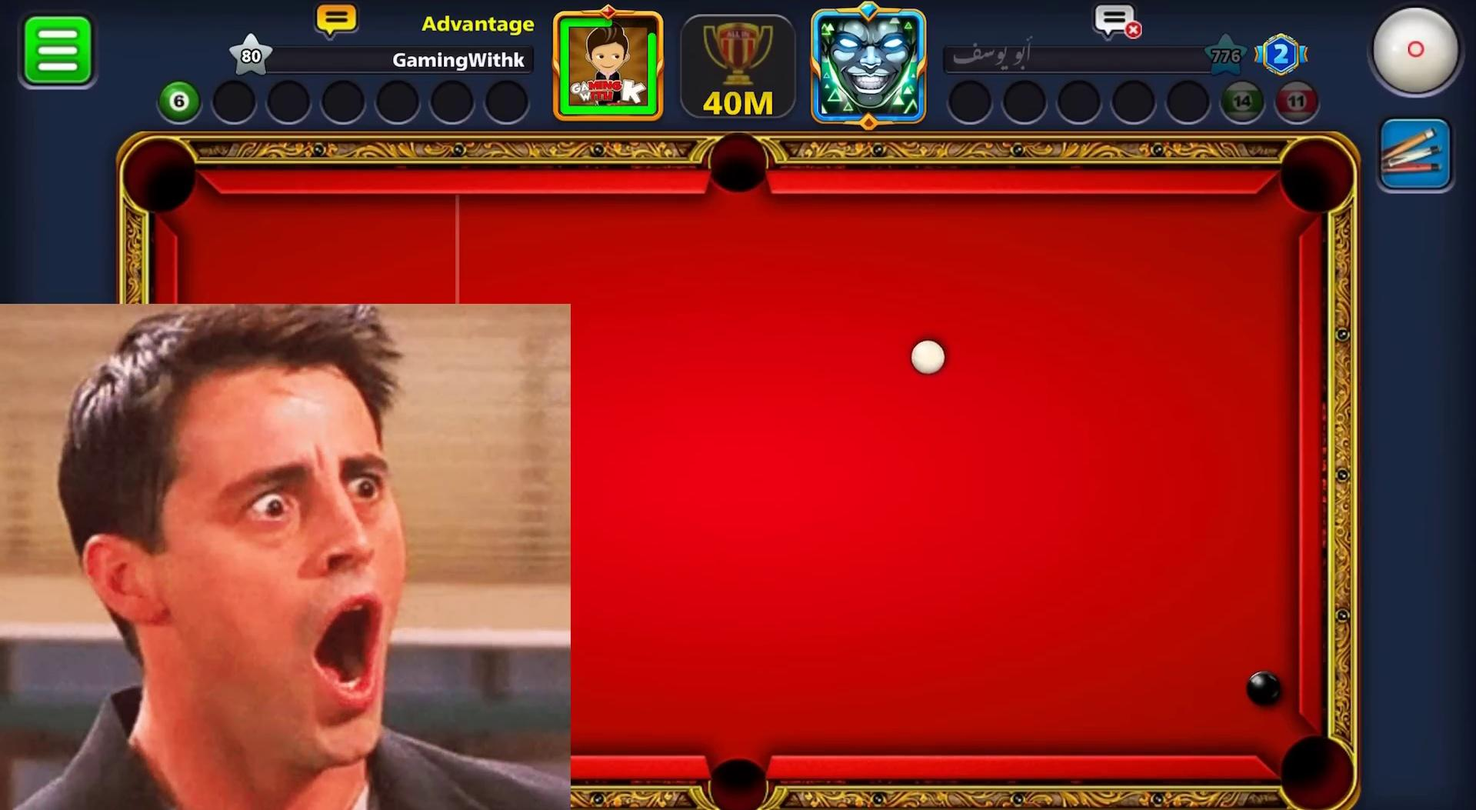Ball: (1237, 662, 1293, 709)
Hole: (1256, 718, 1372, 809), (1277, 136, 1355, 215), (122, 136, 198, 213), (697, 740, 780, 809), (706, 132, 769, 194)
Spin: (1364, 1, 1474, 105)
White: (905, 333, 949, 384)
